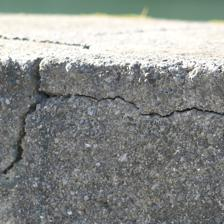Crack: (16, 0, 105, 182), (16, 0, 76, 62), (33, 97, 59, 123)
